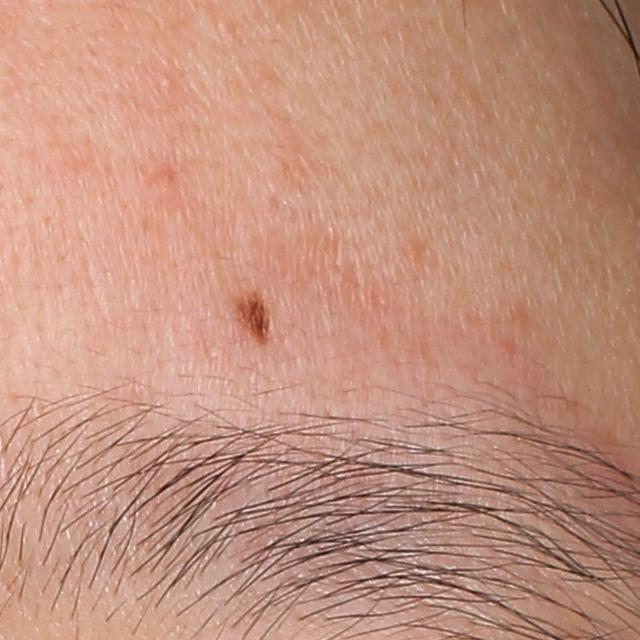nevus: (232, 286, 288, 344)
